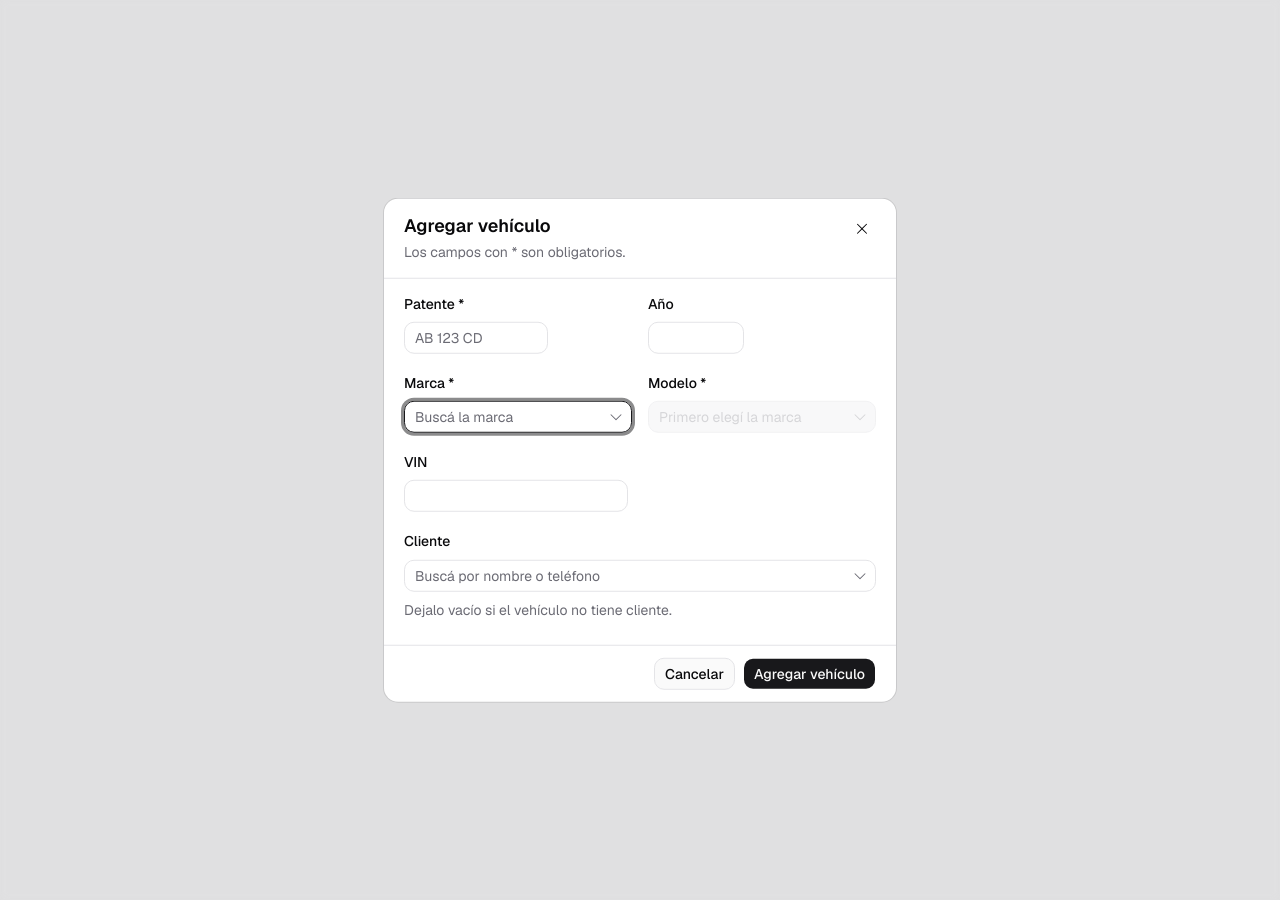
Test case: vehicle form: add › keeps the model disabled until a brand is chosen, then lists that brand's models
Expected: the dropdown labelled "Modelo *" is disabled, 649,401 -> 848,433
Step 1. Type "vol" into the dropdown labelled "Marca *" → (504, 417), box 405,401 -> 604,433
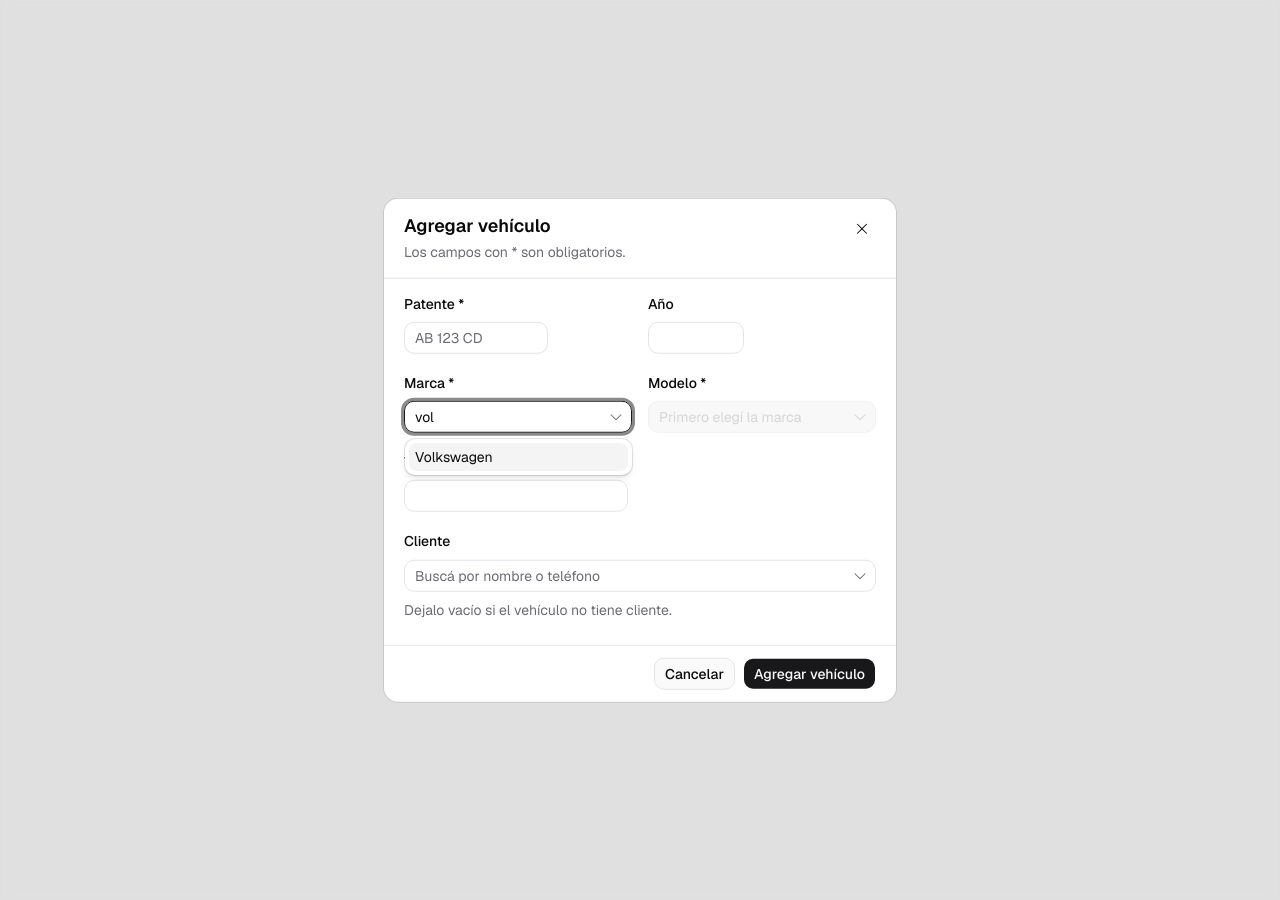
Step 2. Click the option "Volkswagen" → (518, 457), box 409,443 -> 628,471
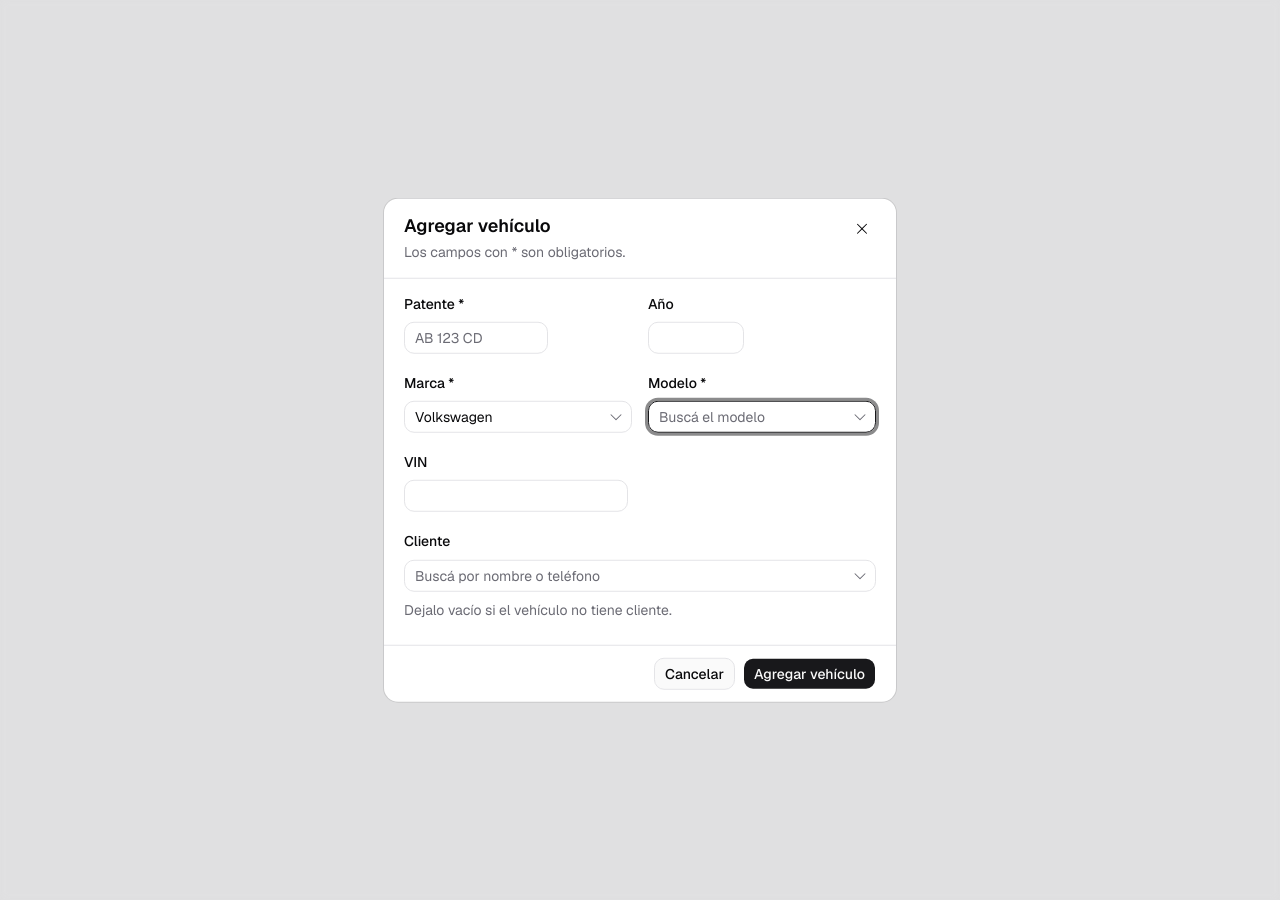
Expected: the dropdown labelled "Modelo *" is enabled
Step 3. Press ArrowDown in the dropdown labelled "Modelo *", box 649,401 -> 848,433
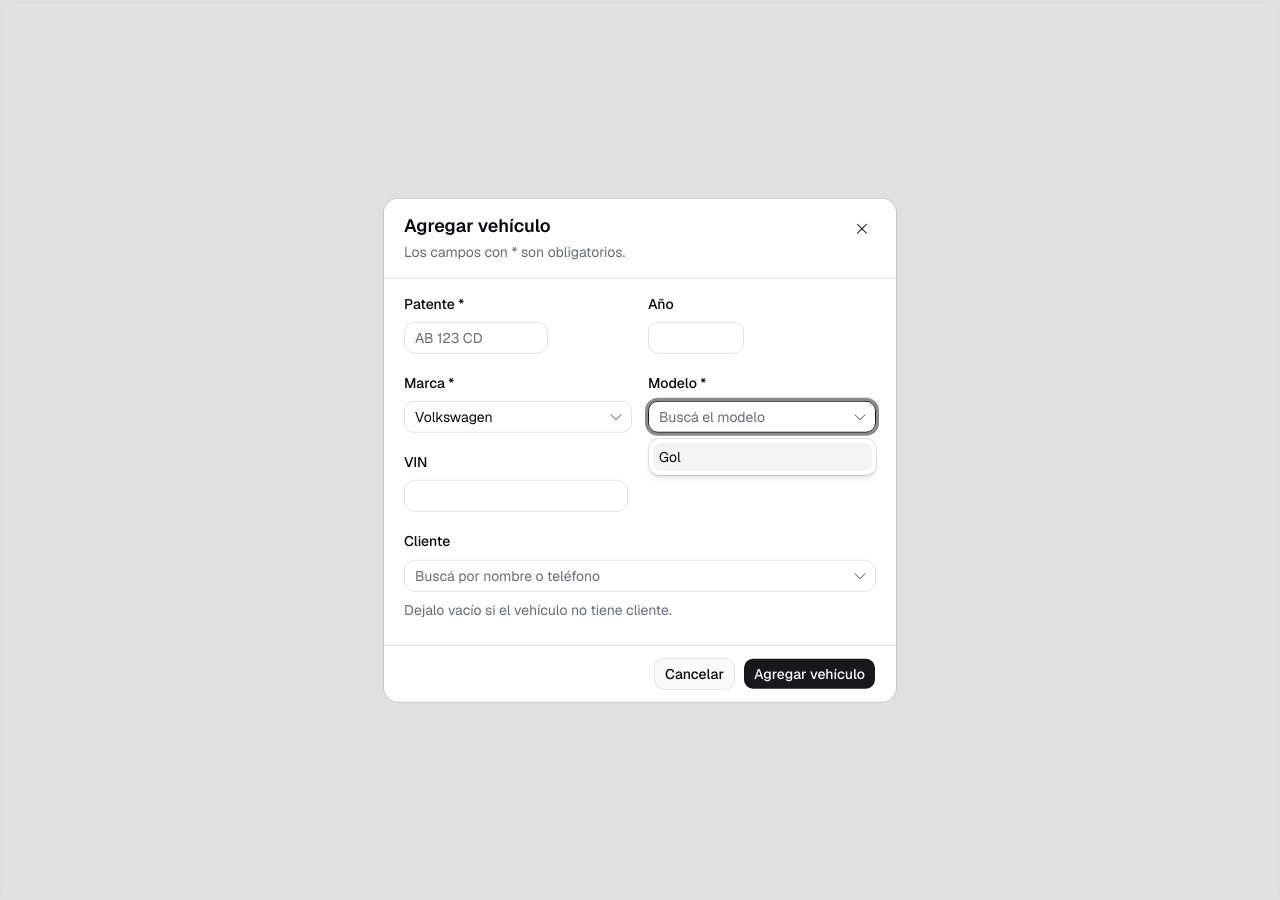
Expected: the option "Gol" is shown, 653,443 -> 872,471
